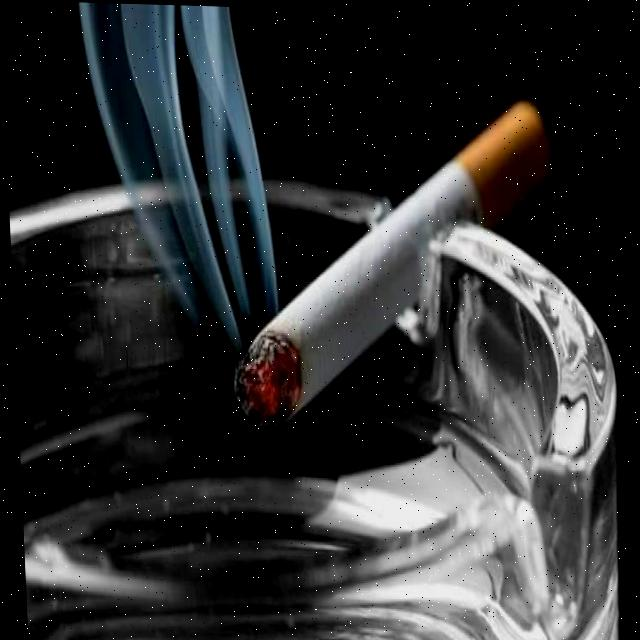cigarette: (225, 92, 557, 436)
